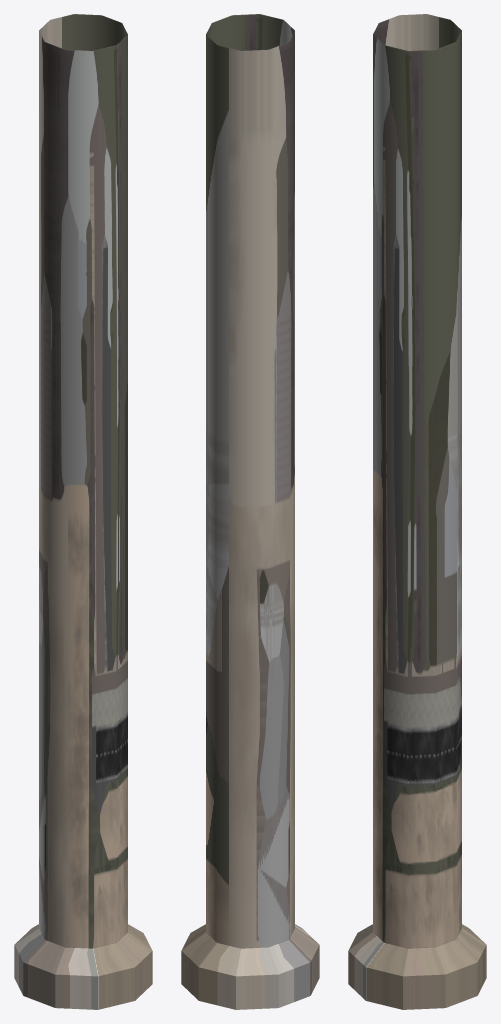
Rendered from stair_stick_03.fbx.
3 views of the same model, side by side, from view 1: azimuth 30°, elevation 25°; view 2: azimuth 150°, elevation 25°; view 3: azimuth 330°, elevation 25° (orthographic).
Visible parts, largest first — view 1: Object008; view 2: Object008; view 3: Object008.
Boxes of the visible parts, left/top/right/bottom form: Object008: left=14, top=14, right=152, bottom=1009; Object008: left=181, top=14, right=319, bottom=1009; Object008: left=348, top=14, right=486, bottom=1009.
Size of the model in its own units: 13.35 by 101 by 12.69.
